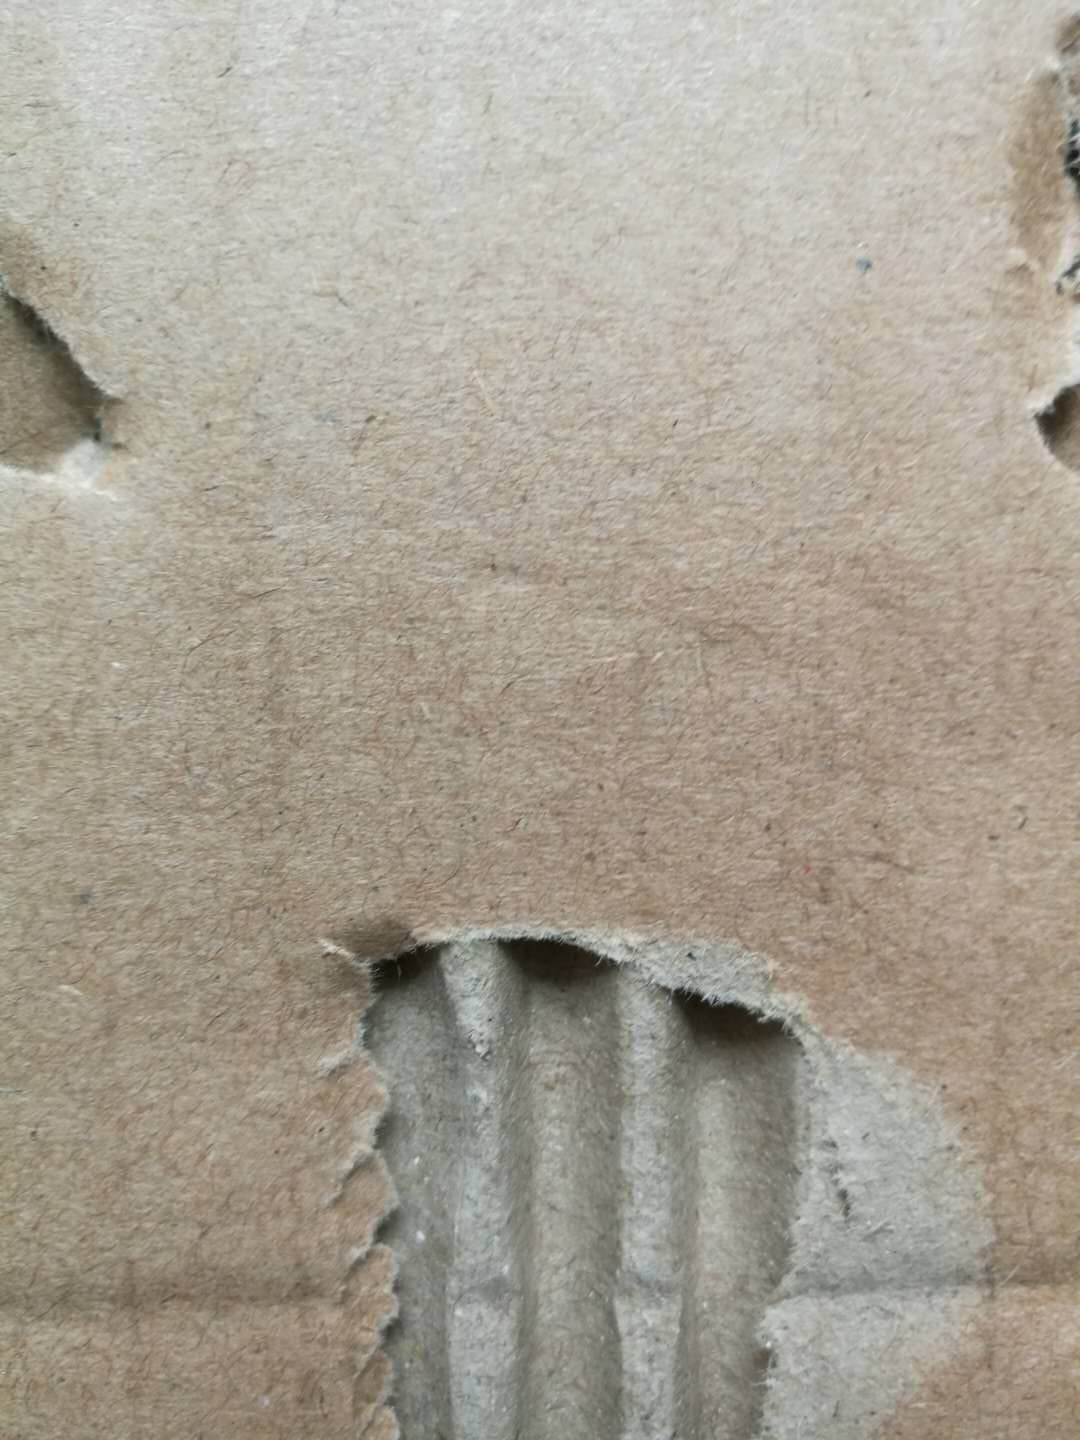defect: (255, 865, 1047, 1440), (2, 195, 177, 579), (974, 2, 1080, 530)
